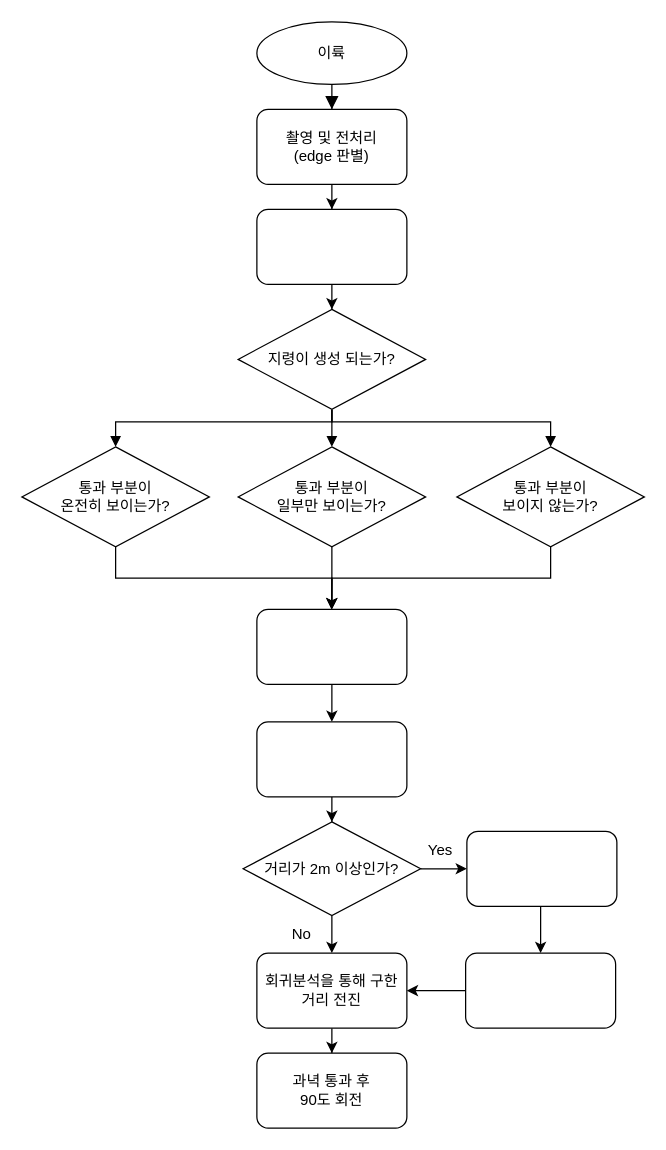
Image size: 666x1150. Some labels were removed from this diagram. Here are the shapes that lost their labels. From the top down, the centre of each, then its label:
(331,246): 장애물 중심점 파악 지령 생성
(331,646): 1차 카메라 중심 정렬
(331,759): 2차 카메라 중심 정렬 y축 오차 보상
(541,868): 일정 거리 전진
(540,990): 카메라 중심점 정렬 y축 오차 보상
